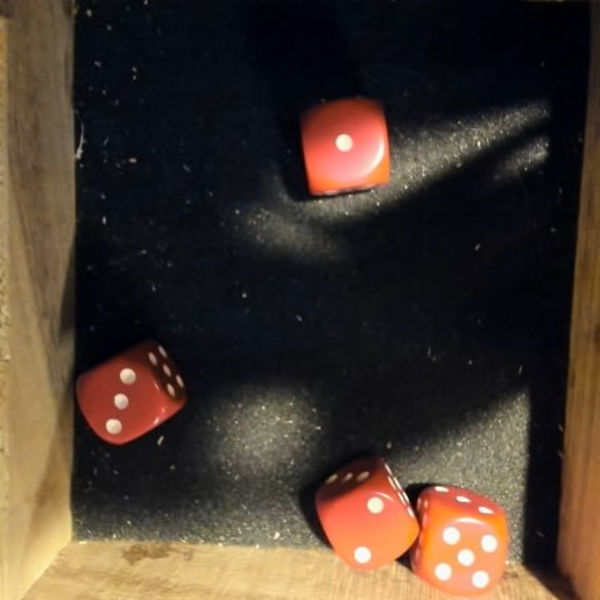red_die_pip1: (295, 98, 392, 201)
red_die_pip2: (305, 453, 427, 580)
red_die_pip3: (69, 336, 190, 453)
red_die_pip5: (402, 478, 521, 600)
